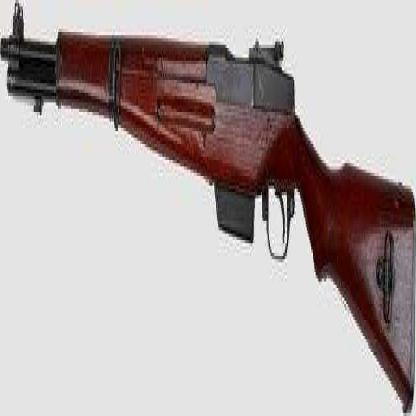Heavy Gun: (3, 2, 416, 416)
